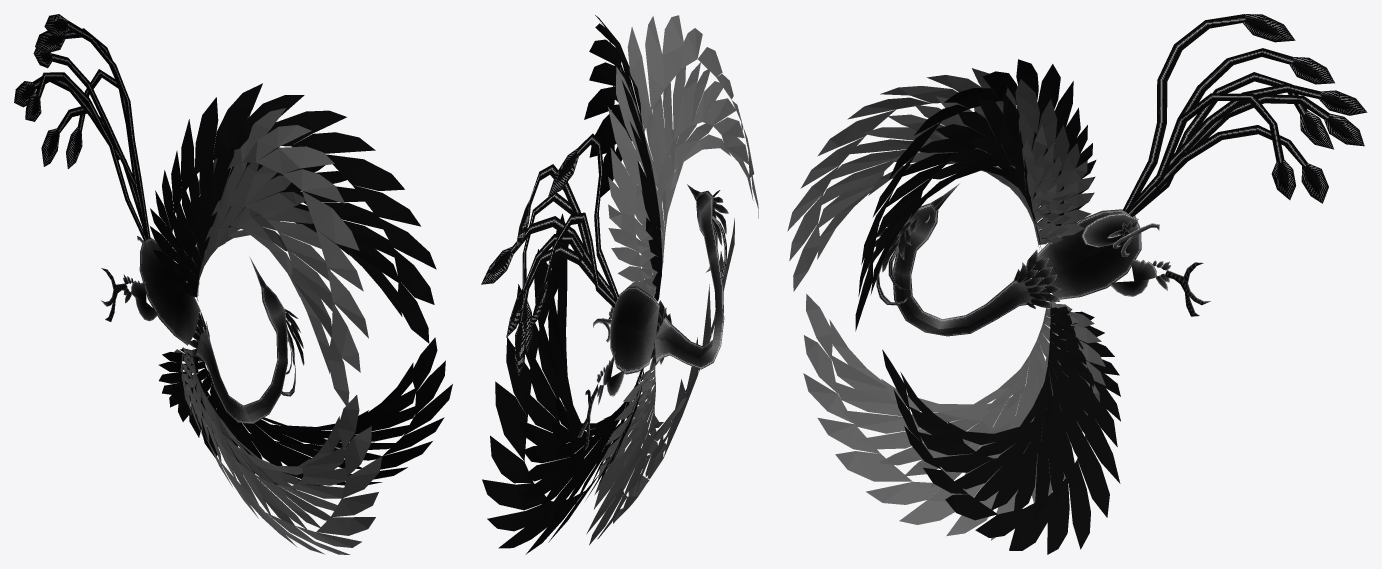
3 renders of one model, left to right at view 1: azimuth 30°, elevation 25°; view 2: azimuth 150°, elevation 25°; view 3: azimuth 270°, elevation 25°, orthographic. The views are drawn at different scales.
Parts seen in each view (by area): view 1: acce1553; view 2: acce1553; view 3: acce1553.
Part boxes in pixels (<box>): acce1553: <box>14,14,452,554</box>; acce1553: <box>481,15,758,554</box>; acce1553: <box>787,14,1367,554</box>.
Bounding box in the file's own units: 1.21 × 2.41 × 2.68.
Materials: 1 (1 with a texture image).
